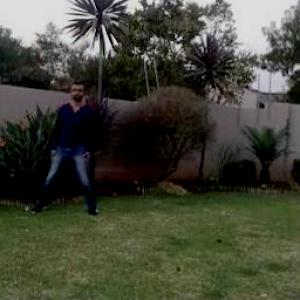follow: (55, 71, 96, 211)
